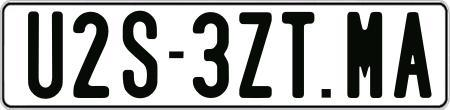2: (72, 9, 109, 99)
3: (191, 12, 232, 102)
A: (394, 12, 432, 101)
M: (344, 11, 382, 103)
S: (122, 11, 156, 103)
T: (280, 12, 312, 104)
U: (27, 8, 63, 101)
Z: (237, 11, 274, 100)
